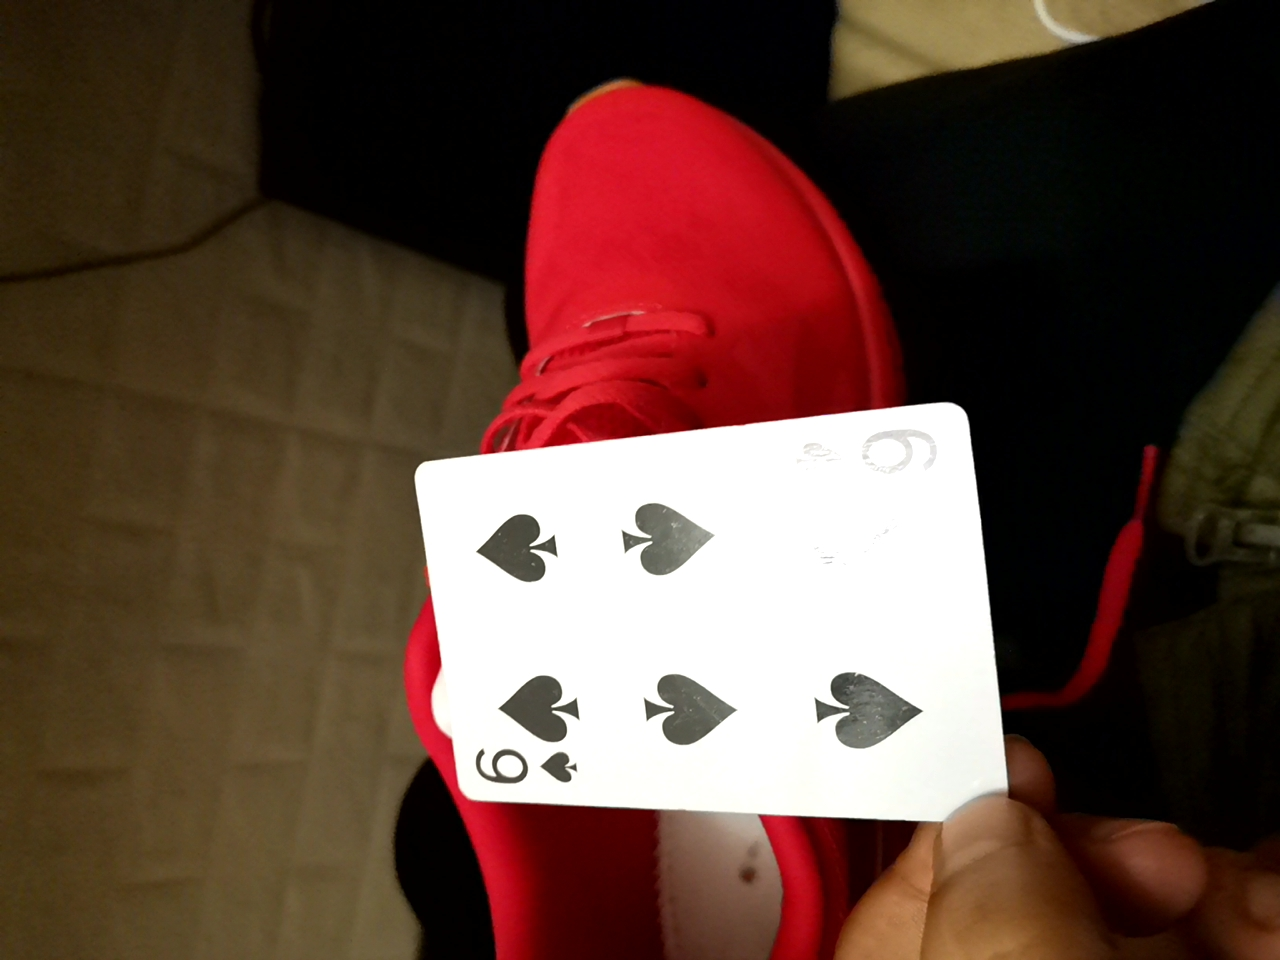ht 6: (406, 425, 1025, 828)
